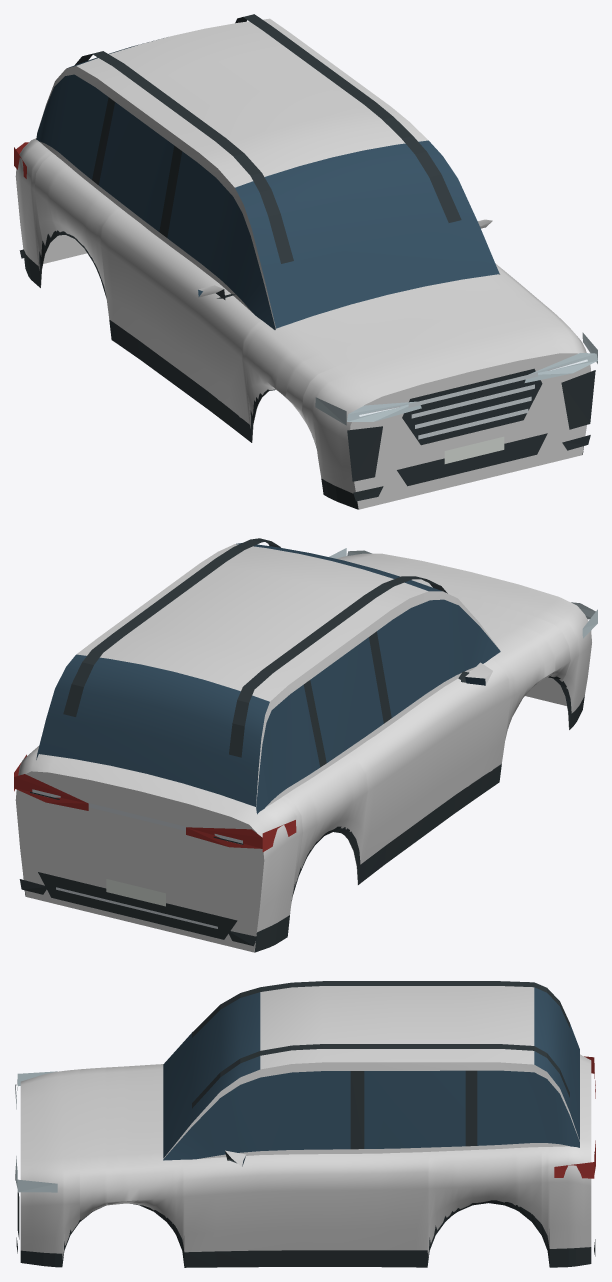
The model's file is veh_fortuner-lod1.glb.
3 renders of one model, top to bottom at view 1: azimuth 30°, elevation 25°; view 2: azimuth 150°, elevation 25°; view 3: azimuth 270°, elevation 25°, orthographic. The views are drawn at different scales.
Visible parts, largest first — view 1: paint, glass, trim, chrome, head, plate; view 2: paint, glass, trim, tail, chrome, plate, head; view 3: paint, glass, trim, head, tail.
Part boxes in pixels (box(x1,y1,x2,y2)): paint: box(15, 18, 590, 509); glass: box(36, 38, 499, 329); trim: box(19, 14, 595, 509); chrome: box(359, 359, 587, 439); head: box(315, 332, 597, 425); plate: box(444, 436, 504, 463); paint: box(15, 544, 591, 952); glass: box(36, 543, 500, 814); trim: box(19, 538, 584, 952); tail: box(14, 754, 296, 851); chrome: box(32, 789, 242, 928); plate: box(106, 879, 165, 906); head: box(329, 548, 597, 638); paint: box(20, 986, 591, 1259); glass: box(163, 987, 579, 1166); trim: box(16, 981, 595, 1267); head: box(16, 1071, 57, 1192); tail: box(554, 1056, 595, 1178).
Bounding box in the file's own units: 1.61 × 1.23 × 3.25.
